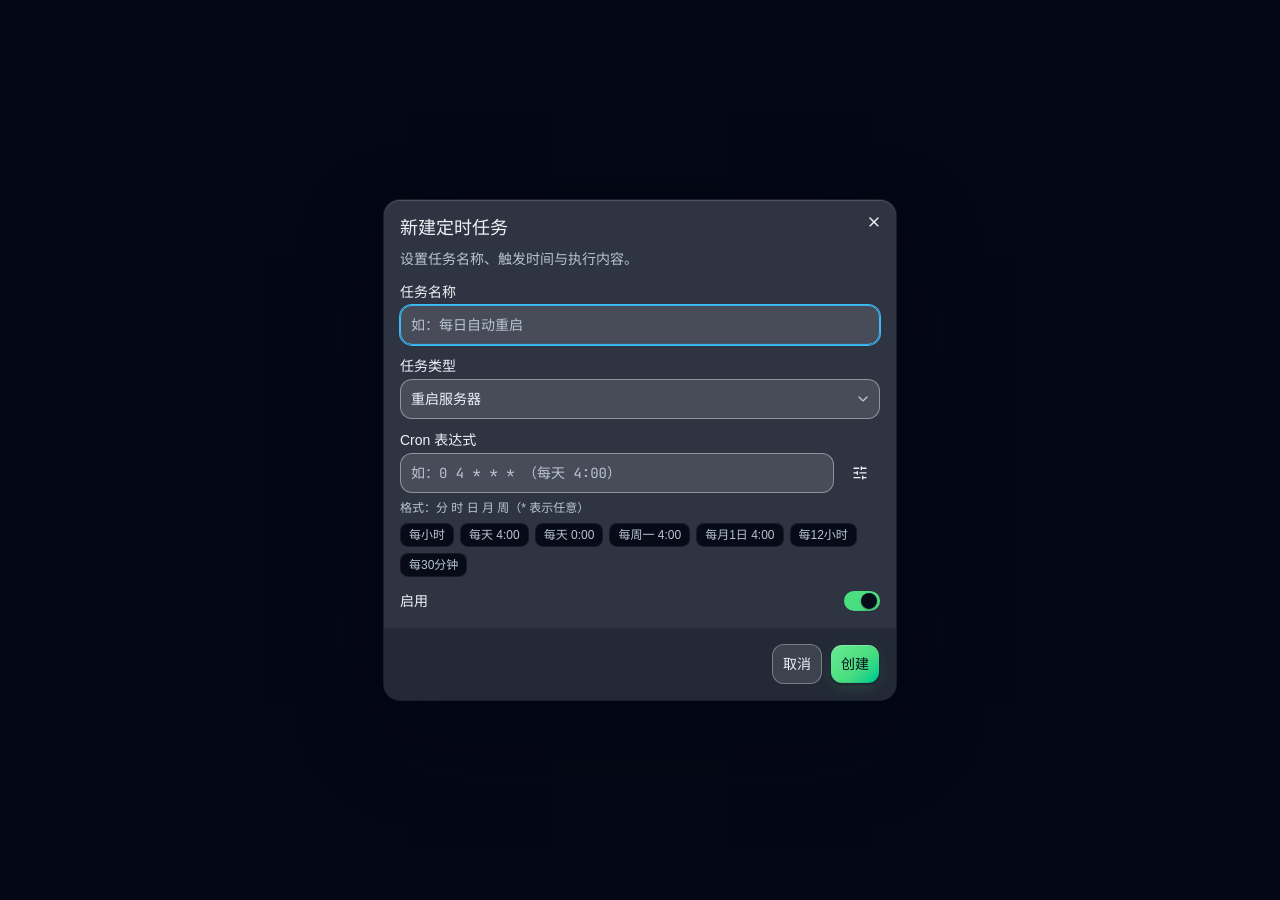
Test: TaskDialog 新建模式与校验 › 仅填名称（cron 为空）：仅显示 cron 行内错误
In the field labelled "任务名称": coordinates (640, 325) [400,305,880,345], type "只有名字"
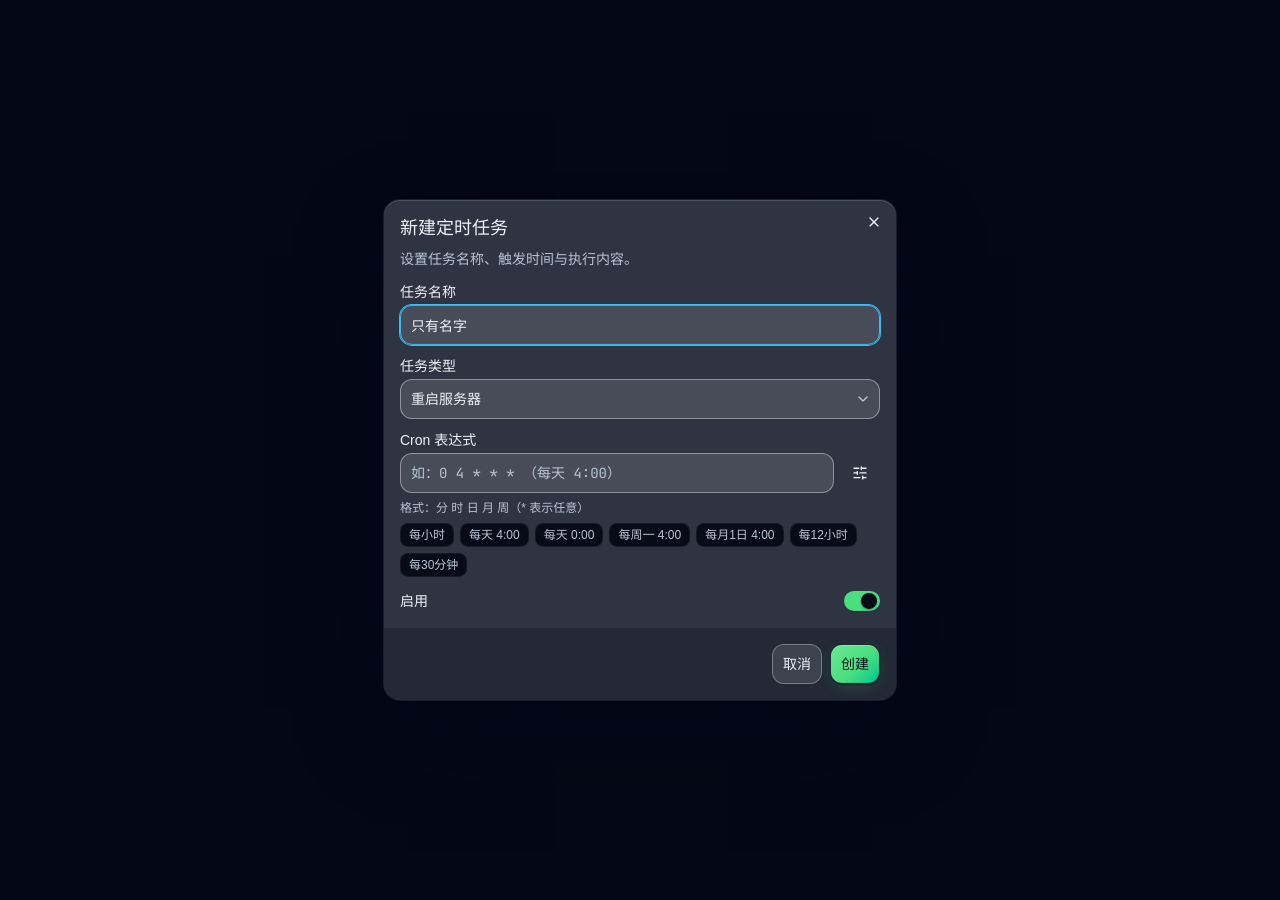
Click the button "创建": coordinates (855, 664) [830,644,880,684]
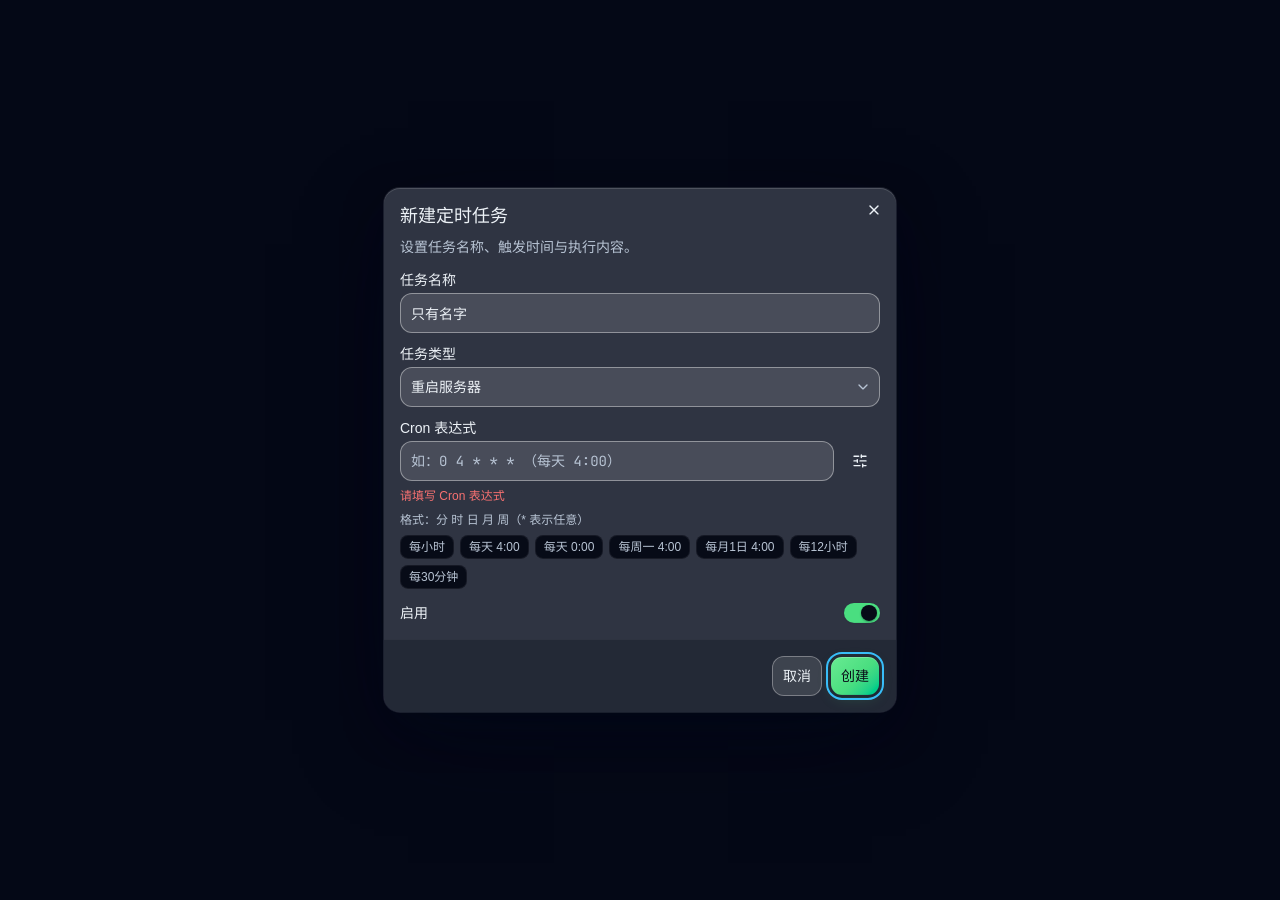
Check: the text "请填写 Cron 表达式" is shown, box [400,489,505,503]
